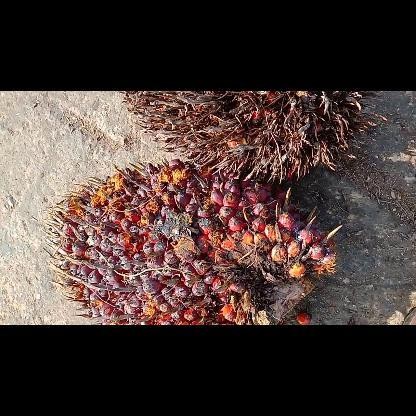TBS masak: (45, 160, 341, 324)
Terlalu masak: (124, 92, 378, 182)
